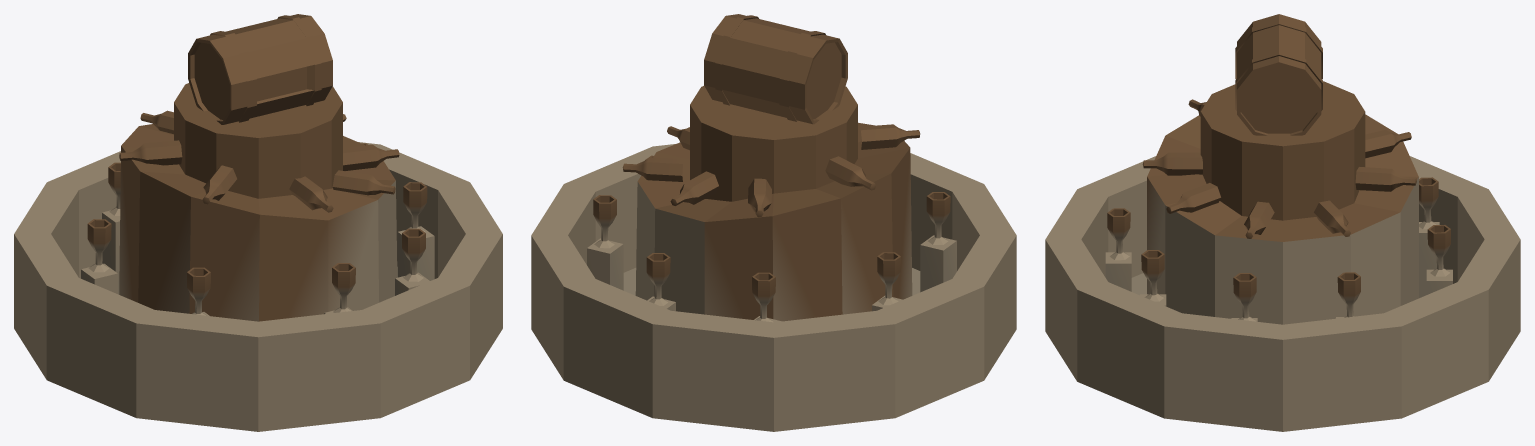
The picture shows the model from 3 angles, left to right: view 1: azimuth 30°, elevation 25°; view 2: azimuth 150°, elevation 25°; view 3: azimuth 270°, elevation 25°; orthographic projection. The views are drawn at different scales.
Visible parts, largest first — view 1: polySurface9:PIV; view 2: polySurface9:PIV; view 3: polySurface9:PIV.
Part boxes in pixels (x1,y1,x2,y2): polySurface9:PIV: (14,14,502,431); polySurface9:PIV: (531,14,1016,431); polySurface9:PIV: (1045,14,1520,431).
Size of the model in its own units: 18.11 by 12.41 by 18.11.
